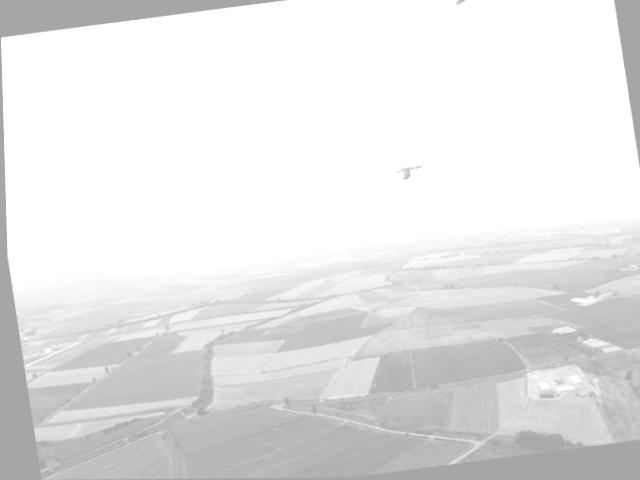hedef: (359, 146, 445, 199), (381, 0, 541, 27)
